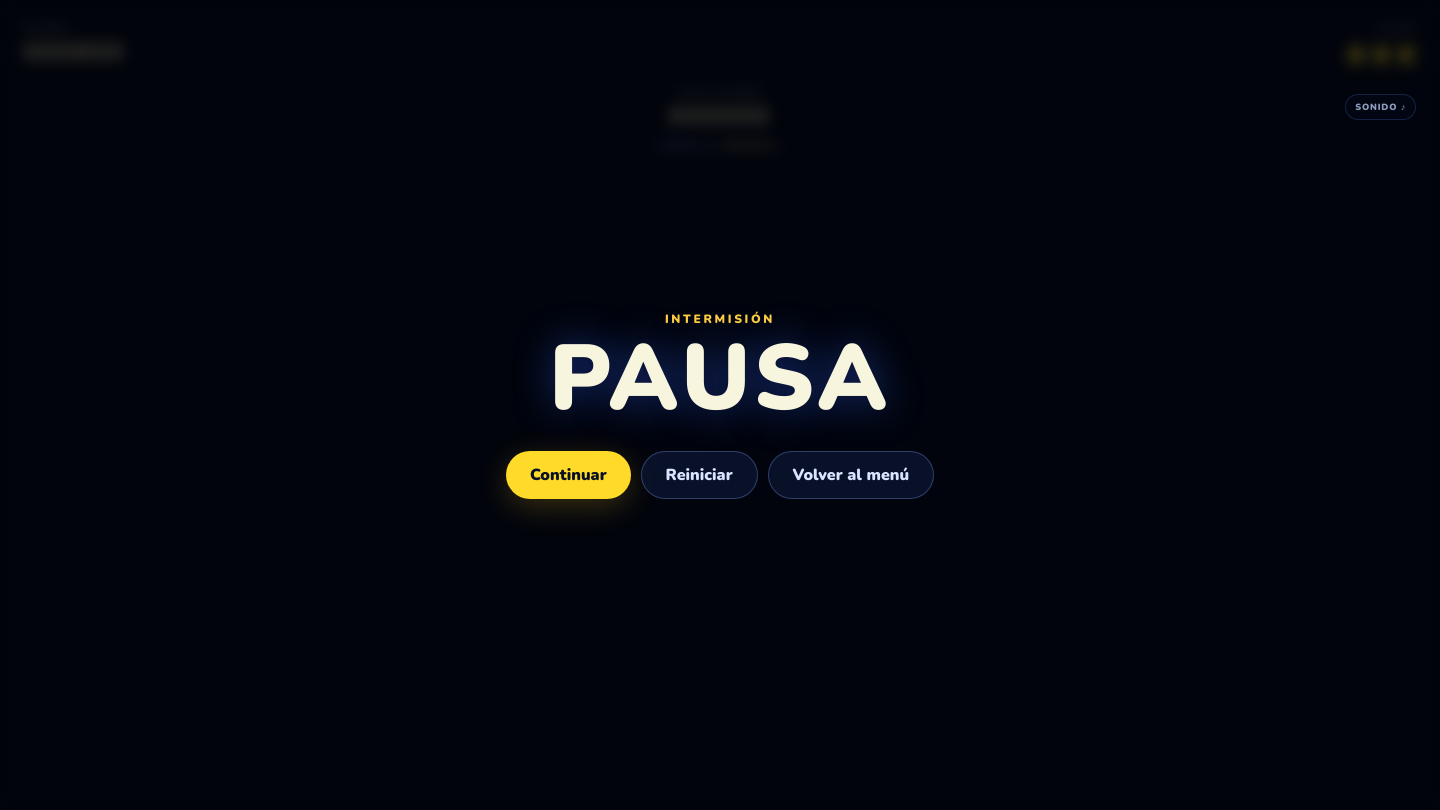
it: HUD › returns to the difficulty menu from pause
The image size is (1440, 810).
Click the button "Volver al menú".
click(851, 475)  # box [768,451,934,499]
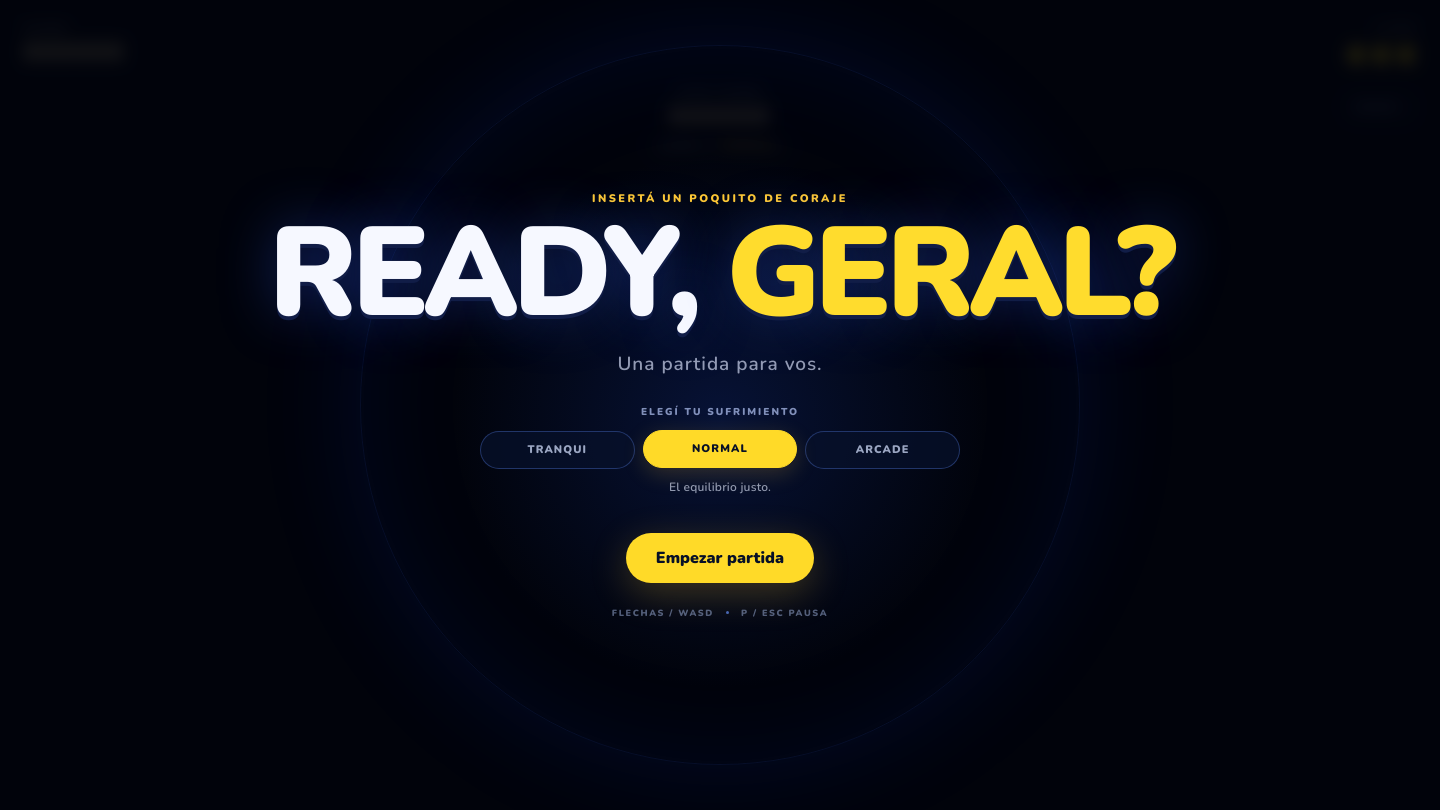
Check: the heading "ELEGÍ TU SUFRIMIENTO" is shown, box [641,405,799,419]
